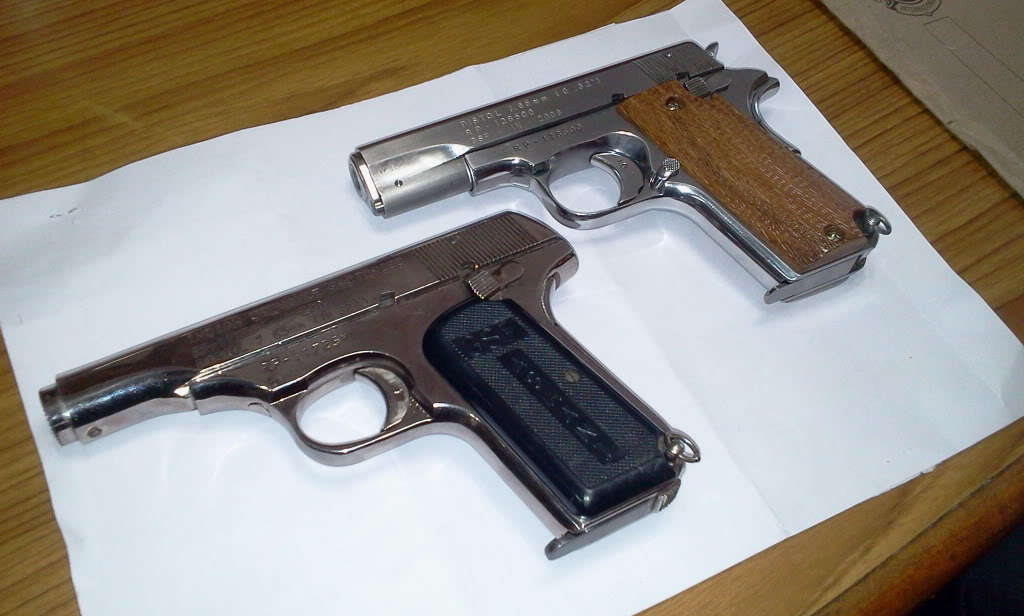gun: (39, 207, 707, 573), (334, 33, 901, 311)
